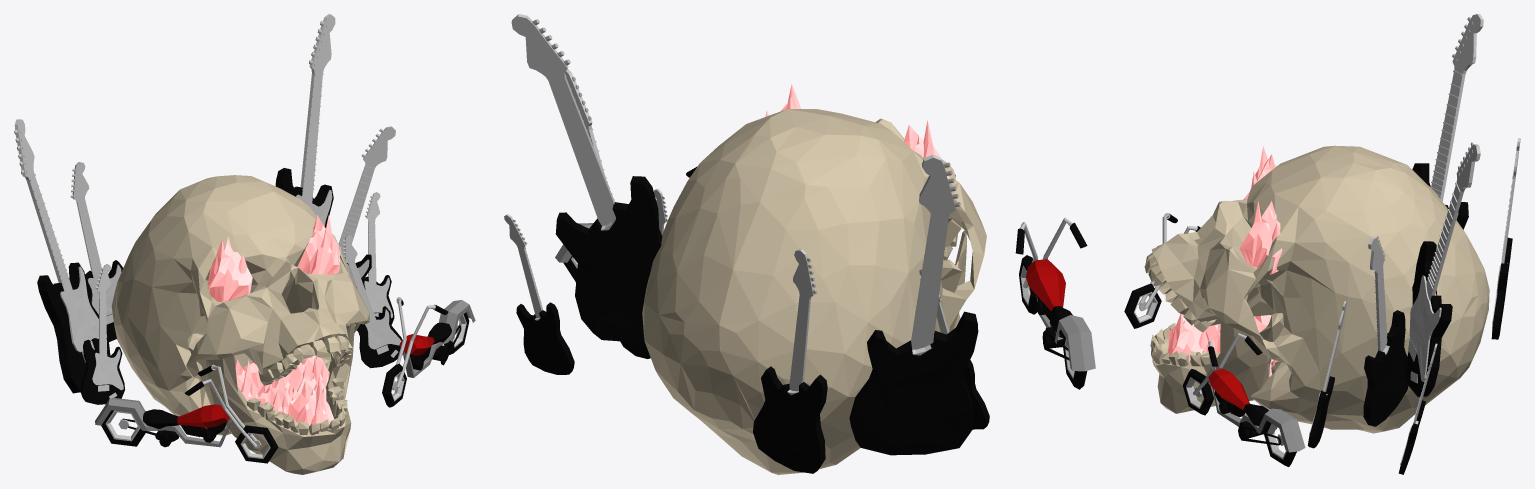
The model's file is SM_Calavera.fbx.
3 renders of one model, left to right at view 1: azimuth 30°, elevation 25°; view 2: azimuth 150°, elevation 25°; view 3: azimuth 270°, elevation 25°, orthographic. The views are drawn at different scales.
Visible parts, largest first — view 1: Calavera, Cuerpo_17, Mastil_6, Mastil_5, Fuego_3, Refuezo_10, Fuego_01, Mastil_7, Chasis, Fuego_01_5, Mastil_4, Cuerpo_11 (+20 smaller); view 2: Calavera, Cuerpo_17, Cuerpo_20, Cuerpo_14, Mastil_6, Mastil_5, Cuerpo_8, Mastil_4, Chasis, Cuerpo, Mastil_2, Cylinder_1_2 (+3 smaller); view 3: Calavera, Cuerpo_23, Mastil_5, Cuerpo_20, Mastil_6, Fuego_01, Refuezo_12, Chasis_2, Mastil_7, Fuego_01_5, Cuerpo_2, Cuerpo_14 (+9 smaller).
Part boxes in pixels (x1=…): Calavera: x1=111, y1=175, x2=369, y2=474; Cuerpo_17: x1=37, y1=262, x2=110, y2=393; Mastil_6: x1=300, y1=14, x2=335, y2=203; Mastil_5: x1=14, y1=119, x2=72, y2=292; Fuego_3: x1=207, y1=236, x2=252, y2=301; Refuezo_10: x1=60, y1=266, x2=106, y2=352; Fuego_01: x1=297, y1=215, x2=341, y2=274; Mastil_7: x1=338, y1=126, x2=395, y2=258; Chasis: x1=95, y1=397, x2=231, y2=447; Fuego_01_5: x1=283, y1=378, x2=333, y2=429; Mastil_4: x1=72, y1=162, x2=102, y2=279; Cuerpo_11: x1=80, y1=339, x2=124, y2=404; Calavera: x1=642, y1=109, x2=986, y2=474; Cuerpo_17: x1=849, y1=311, x2=978, y2=455; Cuerpo_20: x1=555, y1=176, x2=662, y2=342; Cuerpo_14: x1=753, y1=366, x2=827, y2=473; Mastil_6: x1=511, y1=14, x2=615, y2=226; Mastil_5: x1=911, y1=155, x2=955, y2=349; Cuerpo_8: x1=516, y1=302, x2=574, y2=374; Mastil_4: x1=789, y1=249, x2=814, y2=391; Chasis: x1=1036, y1=296, x2=1095, y2=371; Cuerpo: x1=1026, y1=259, x2=1065, y2=310; Mastil_2: x1=504, y1=214, x2=543, y2=317; Cylinder_1_2: x1=1015, y1=217, x2=1087, y2=288; Calavera: x1=1144, y1=145, x2=1489, y2=433; Cuerpo_23: x1=1363, y1=310, x2=1408, y2=426; Mastil_5: x1=1430, y1=14, x2=1483, y2=201; Cuerpo_20: x1=1405, y1=241, x2=1452, y2=396; Mastil_6: x1=1426, y1=144, x2=1480, y2=300; Fuego_01: x1=1239, y1=201, x2=1282, y2=274; Refuezo_12: x1=1409, y1=275, x2=1441, y2=381; Chasis_2: x1=1212, y1=387, x2=1305, y2=452; Mastil_7: x1=1368, y1=237, x2=1387, y2=351; Fuego_01_5: x1=1167, y1=314, x2=1208, y2=362; Cuerpo_2: x1=1208, y1=368, x2=1249, y2=410; Cuerpo_14: x1=1491, y1=237, x2=1512, y2=339.
Size of the model in its own units: 499 by 414 by 406.
